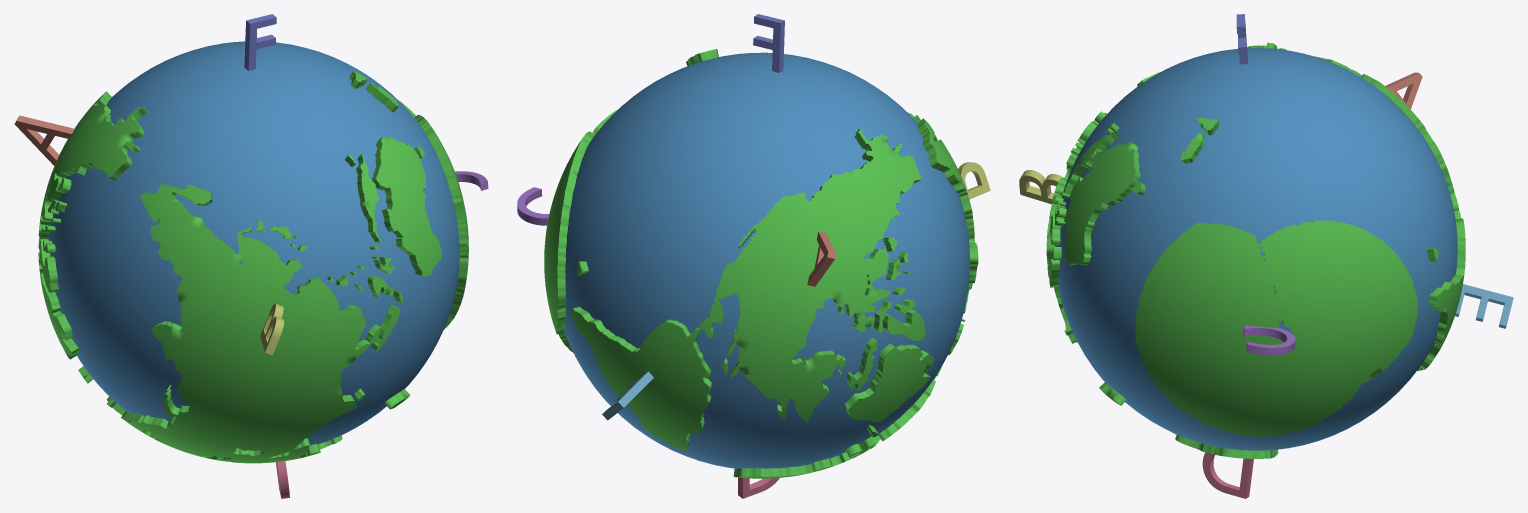
Rendered from earth.glb.
The picture shows the model from 3 angles, left to right: view 1: azimuth 30°, elevation 25°; view 2: azimuth 150°, elevation 25°; view 3: azimuth 270°, elevation 25°; orthographic projection. The views are drawn at different scales.
Visible parts, largest first — view 1: base, contents, テキスト, テキスト.002, テキスト.006; view 2: base, contents, テキスト.002, テキスト, テキスト.005, テキスト.006, テキスト.003, テキスト.004; view 3: base, contents, テキスト.005, テキスト.004, テキスト.003, テキスト.006, テキスト.
Part boxes in pixels (bbox=[...]): base: bbox=[48, 41, 459, 445]; contents: bbox=[38, 70, 468, 463]; テキスト: bbox=[14, 115, 74, 165]; テキスト.002: bbox=[244, 14, 276, 70]; テキスト.006: bbox=[260, 303, 284, 355]; base: bbox=[564, 52, 969, 468]; contents: bbox=[544, 49, 978, 478]; テキスト.002: bbox=[753, 14, 784, 72]; テキスト: bbox=[807, 231, 836, 286]; テキスト.005: bbox=[517, 187, 549, 225]; テキスト.006: bbox=[958, 162, 990, 199]; テキスト.003: bbox=[602, 371, 653, 420]; テキスト.004: bbox=[738, 477, 779, 498]; base: bbox=[1055, 48, 1457, 450]; contents: bbox=[1046, 42, 1465, 458]; テキスト.005: bbox=[1243, 325, 1295, 355]; テキスト.004: bbox=[1202, 452, 1253, 498]; テキスト.003: bbox=[1455, 284, 1513, 328]; テキスト.006: bbox=[1019, 170, 1063, 204]; テキスト: bbox=[1385, 72, 1422, 109].
Size of the model in its own units: 2.23 by 2.45 by 2.36.
